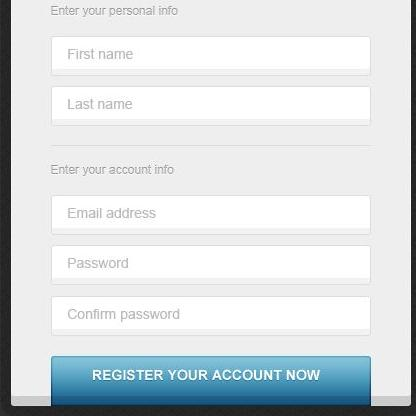button: (48, 352, 374, 409)
field: (50, 34, 374, 79), (50, 294, 374, 338), (51, 193, 374, 236), (49, 244, 371, 287), (49, 85, 372, 127)
